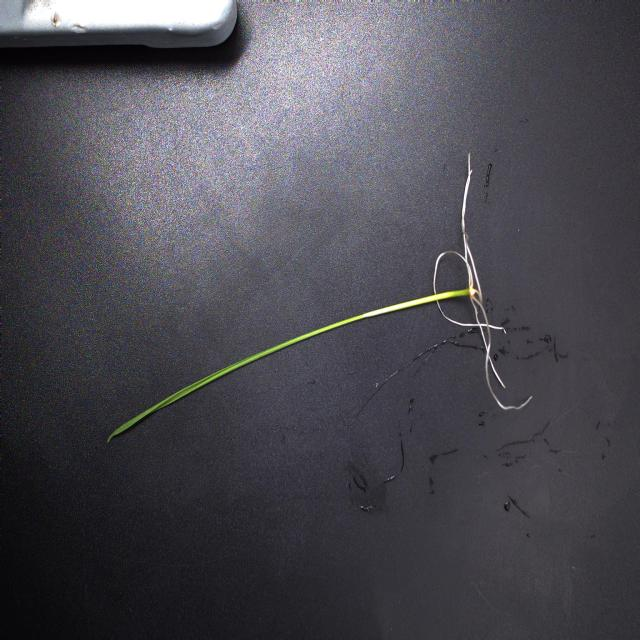leaf: (182, 315, 363, 393), (107, 386, 194, 443)
root: (434, 155, 532, 409)
stem: (360, 290, 470, 321)
